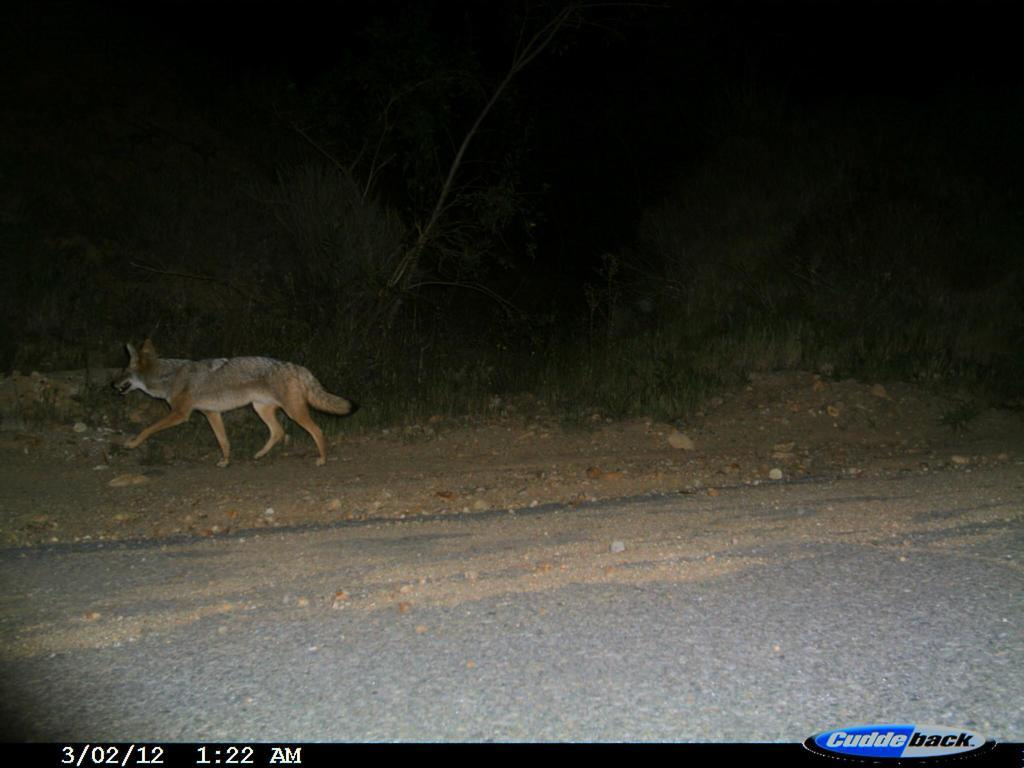coyote: (97, 324, 369, 497)
